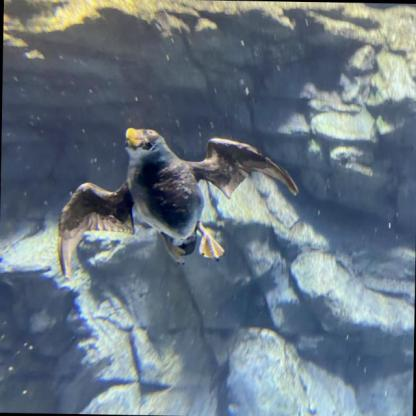puffin: (46, 114, 300, 284)
